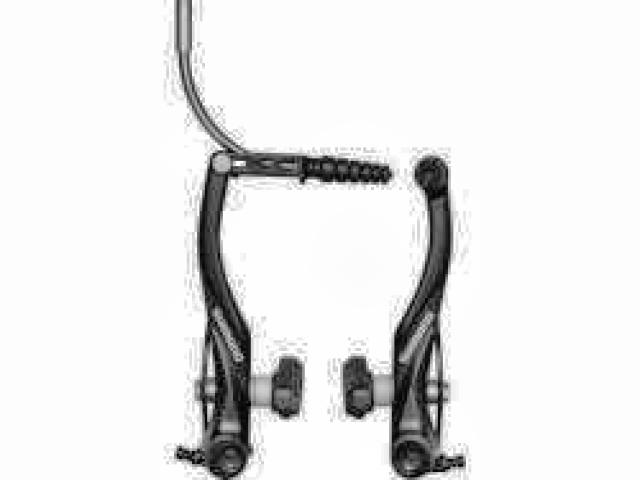rim_brake: (180, 142, 461, 476)
